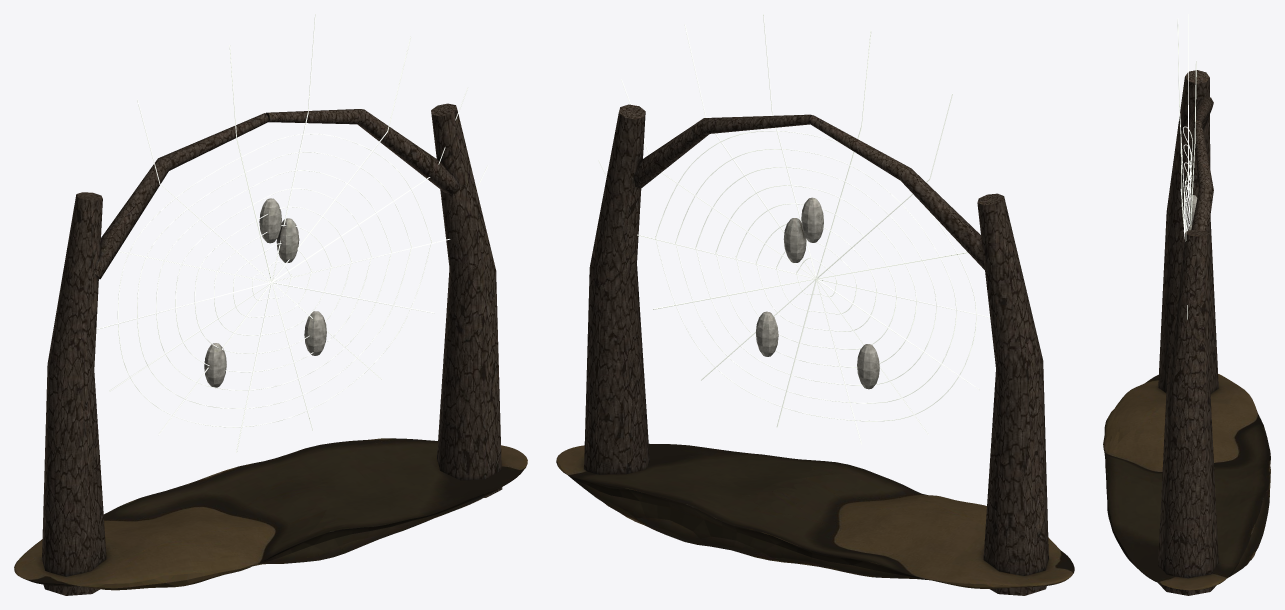
The model's file is mata_teia_arco.glb.
3 renders of one model, left to right at view 1: azimuth 30°, elevation 25°; view 2: azimuth 150°, elevation 25°; view 3: azimuth 270°, elevation 25°, orthographic. The views are drawn at different scales.
Parts seen in each view (by area): view 1: mata_teia_arco_tronco, espiral8, espiral7, espiral6, espiral5; view 2: mata_teia_arco_tronco, espiral8, espiral7, espiral6, espiral5; view 3: mata_teia_arco_tronco, espiral8.
Boxes of the visible parts, x1,y1,x2,y2 form: mata_teia_arco_tronco: (14,103,527,595); espiral8: (117,133,432,427); espiral7: (137,151,412,408); espiral6: (156,170,392,390); espiral5: (175,188,372,372); mata_teia_arco_tronco: (556,104,1074,595); espiral8: (655,130,976,421); espiral7: (675,149,956,403); espiral6: (695,167,936,385); espiral5: (715,185,916,367); mata_teia_arco_tronco: (1103,70,1270,595); espiral8: (1183,126,1192,238).
Bounding box in the file's own units: 5.88 × 5.64 × 1.88.
Materials: 29 (1 with a texture image).
